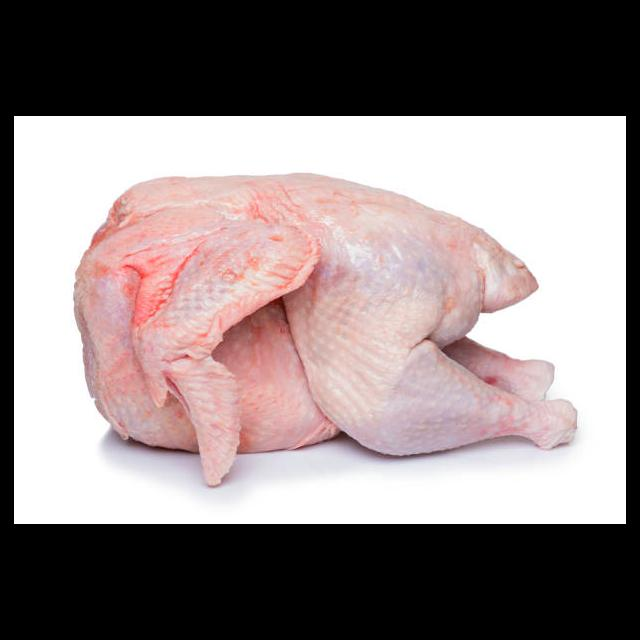chicken: (72, 174, 580, 488)
